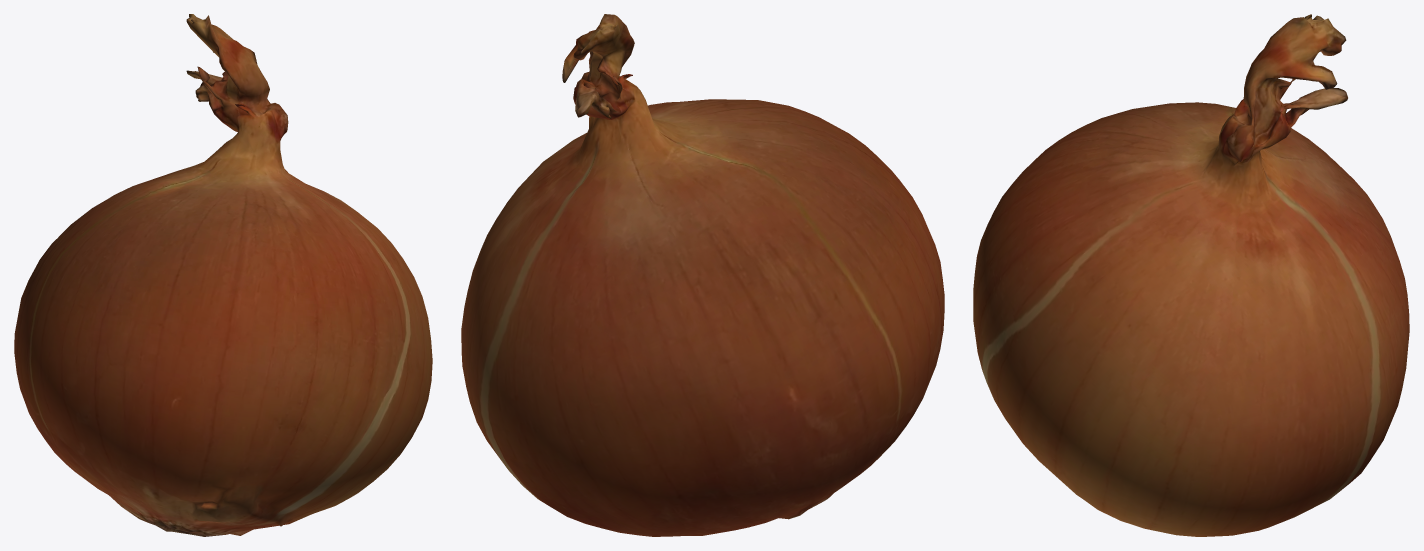
Rendered from yellow_onion.glb.
The picture shows the model from 3 angles, left to right: view 1: azimuth 30°, elevation 25°; view 2: azimuth 150°, elevation 25°; view 3: azimuth 270°, elevation 25°; orthographic projection. The views are drawn at different scales.
Parts seen in each view (by area): view 1: yellow_onion; view 2: yellow_onion; view 3: yellow_onion.
Boxes of the visible parts, x1,y1,x2,y2 form: yellow_onion: [14, 14, 432, 536]; yellow_onion: [461, 14, 944, 536]; yellow_onion: [973, 14, 1409, 536].
Size of the model in its own units: 0.0725 by 0.0864 by 0.0686.
1 material, 1 textured.
